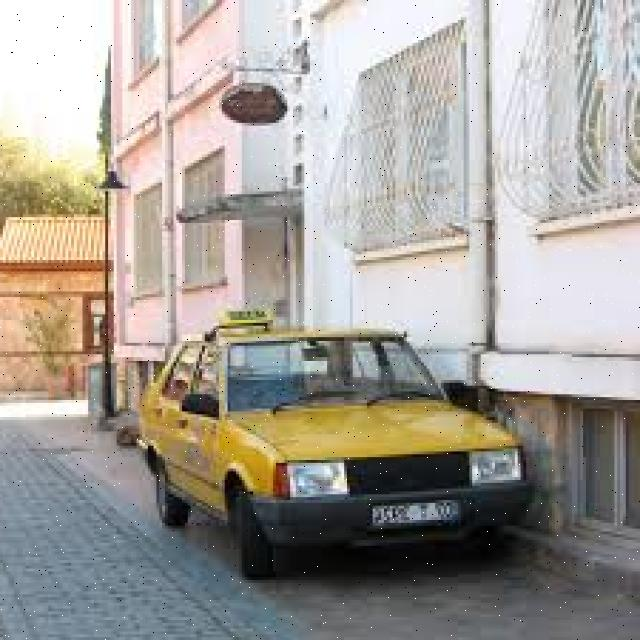car: (139, 312, 530, 577)
